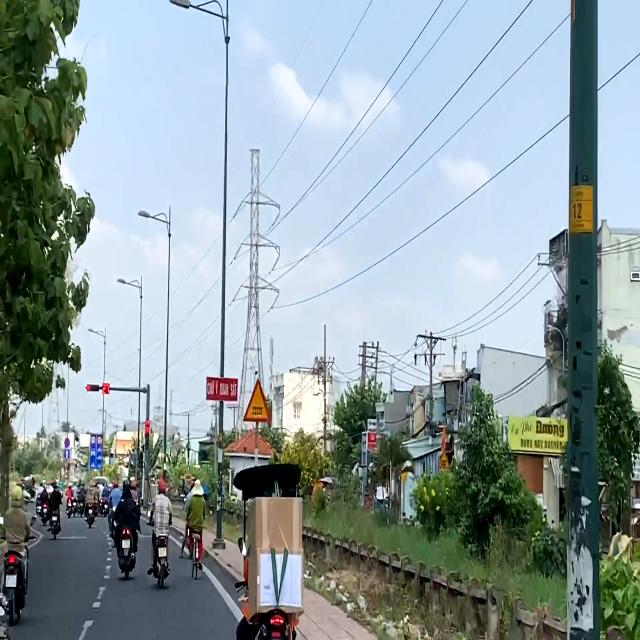W.210: (242, 376, 272, 424)
